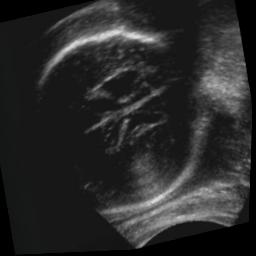abnormal: (18, 7, 221, 233)
